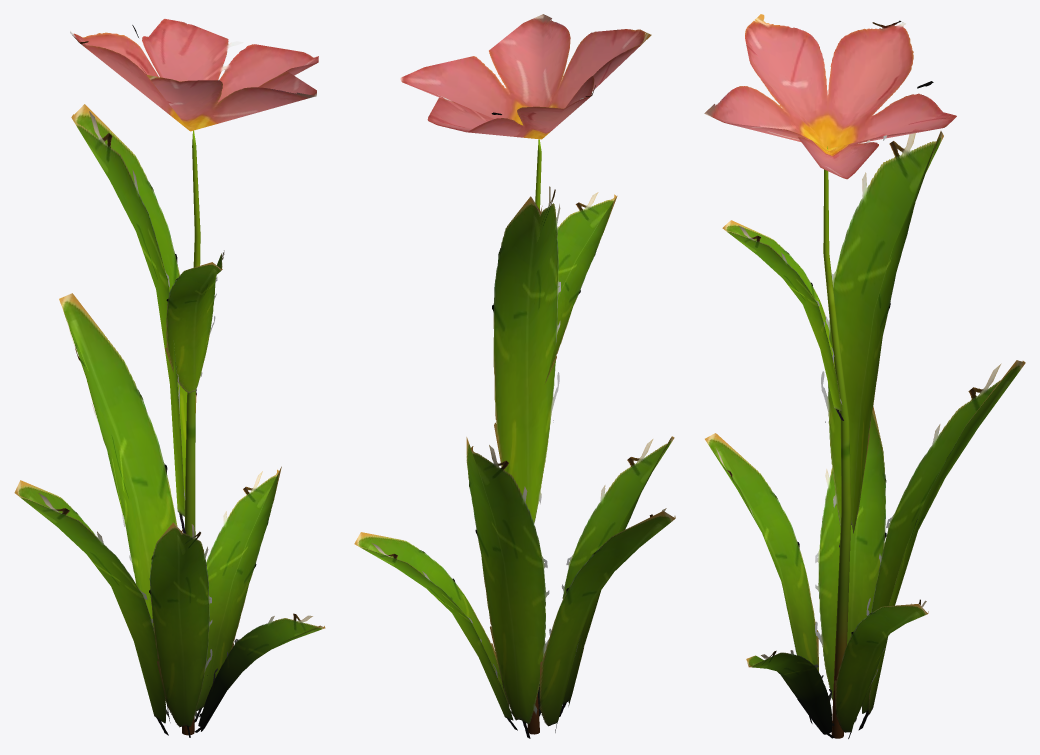
The model's file is nat_Flower_3_Single.glb.
The picture shows the model from 3 angles, left to right: view 1: azimuth 30°, elevation 25°; view 2: azimuth 150°, elevation 25°; view 3: azimuth 270°, elevation 25°; orthographic projection. The views are drawn at different scales.
Parts seen in each view (by area): view 1: Flower_3_Single; view 2: Flower_3_Single; view 3: Flower_3_Single.
Boxes of the visible parts, x1,y1,x2,y2 form: Flower_3_Single: [14, 19, 325, 737]; Flower_3_Single: [354, 14, 675, 738]; Flower_3_Single: [704, 14, 1025, 738].
Bounding box in the file's own units: 0.9066 × 2.07 × 0.8775.
2 materials, 2 textured.
